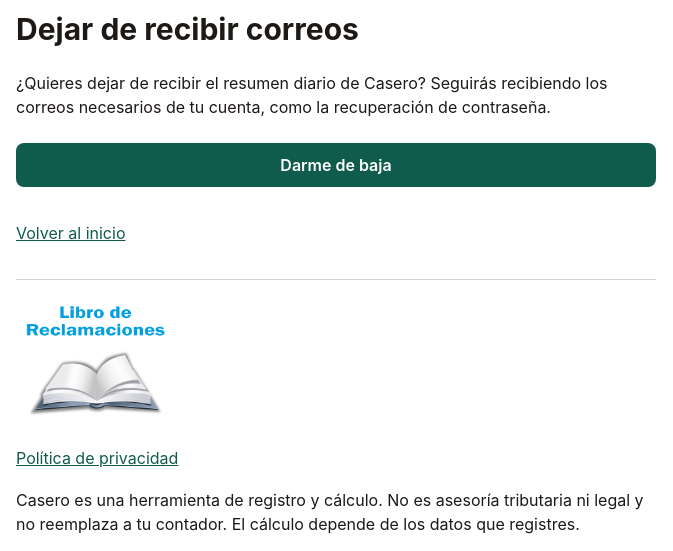
it: unsubscribe page › asks before unsubscribing and sends the link's parameters
This screenshot has width=673, height=551.
expect the text "dejar de recibir el resumen diario" is shown: met, box top-left (16, 73), bottom-right (608, 117)
Step 1. Click the button "Darme de baja" → coordinates (336, 165), box top-left (16, 143), bottom-right (656, 187)
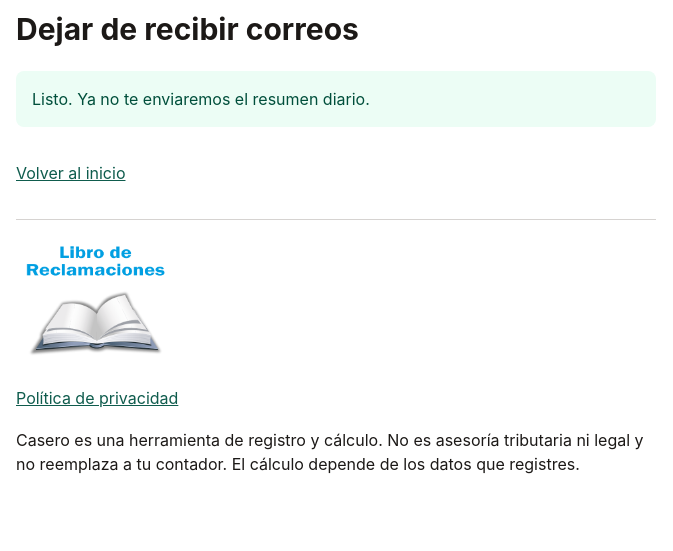
expect the message reads "Listo. Ya no te enviaremos el resumen diario.": met, box top-left (32, 89), bottom-right (370, 109)
